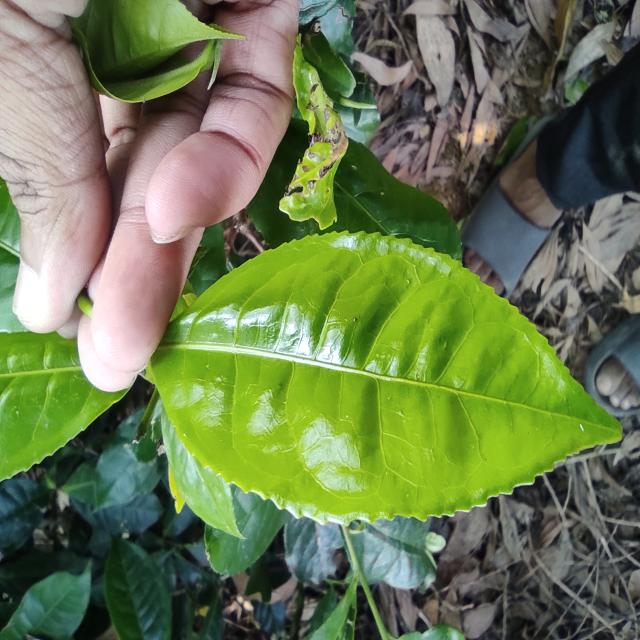Category B(2-4 days): (141, 226, 626, 537)
